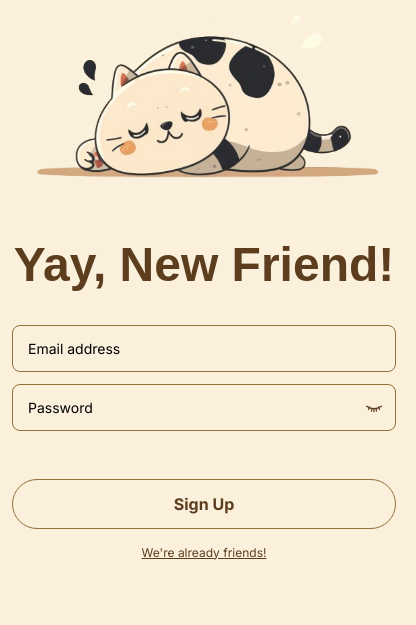
Scenario: RegisterForm › shows zod validation errors for invalid field values
The width and height of the screenshot is (416, 625).
Type "notanemail" into the field with placeholder "Email address".
click(204, 348); type("notanemail")  # box left=12, top=325, right=396, bottom=372
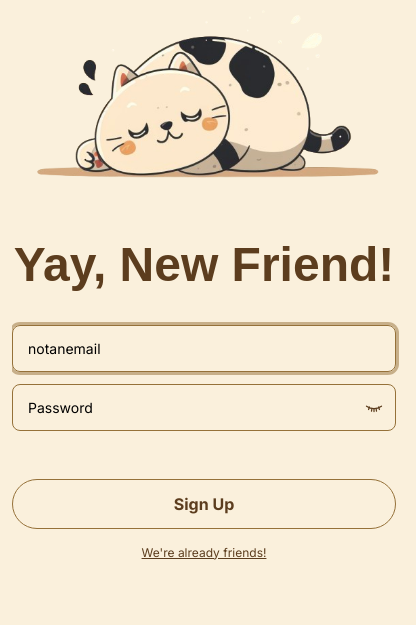
Type "short" into the password field with placeholder "Password".
click(204, 407); type("short")  # box left=12, top=384, right=396, bottom=431
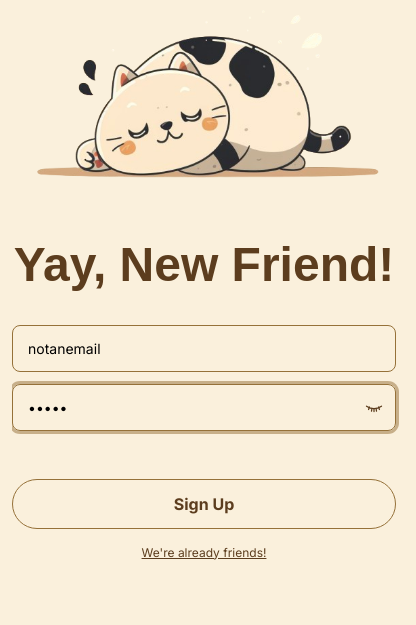
Click the button "Sign Up".
click(204, 504)  # box left=12, top=479, right=396, bottom=529
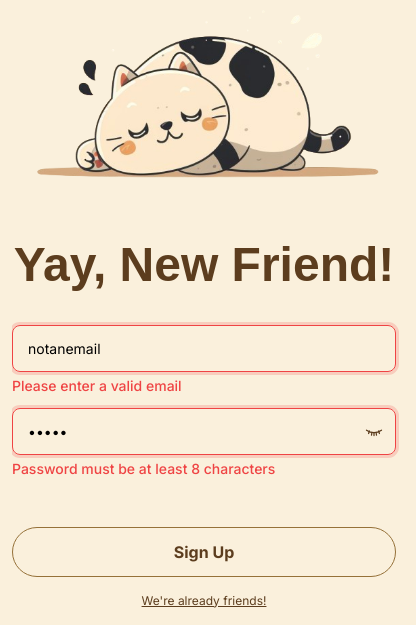
Expected: the text "Please enter a valid email" is shown, left=12, top=377, right=182, bottom=394
Expected: the text "Password must be at least 8 characters" is shown, left=12, top=460, right=275, bottom=477
